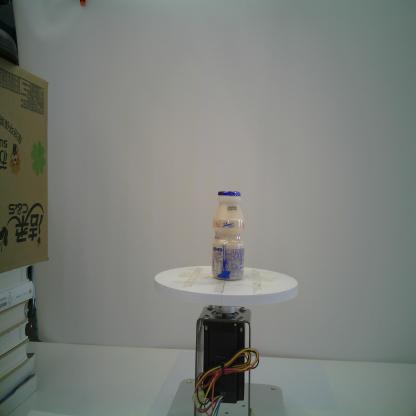Milk: (212, 190, 245, 282)
